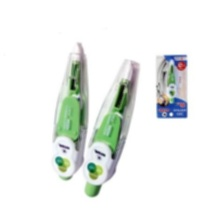book: (153, 52, 188, 120)
correction_fluid: (79, 57, 141, 202), (49, 41, 90, 183), (163, 57, 178, 105)
